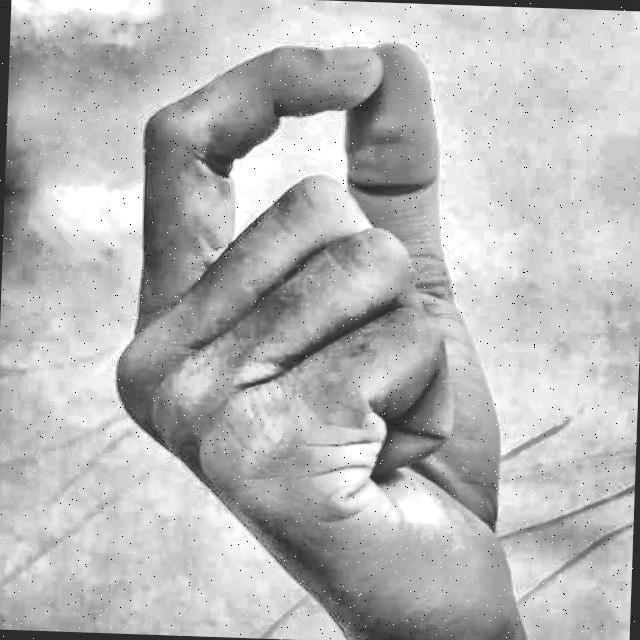Gha: (48, 8, 583, 637)
